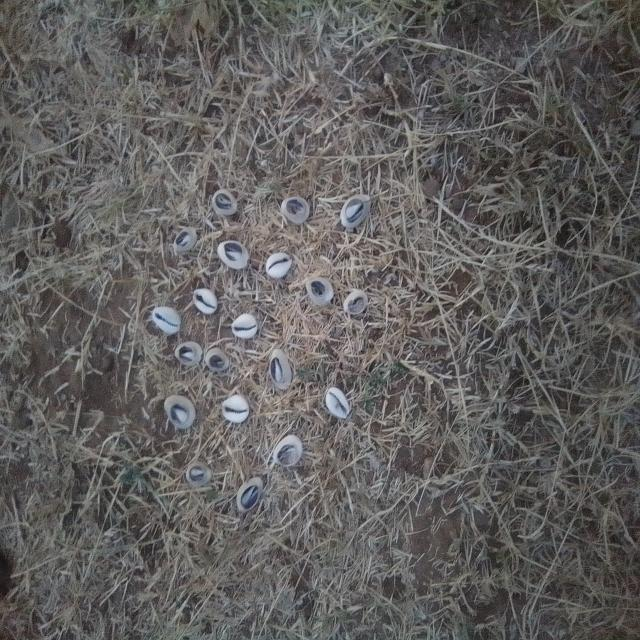facedown: (163, 393, 197, 430), (340, 192, 373, 229), (272, 434, 304, 471), (217, 238, 251, 270), (270, 345, 294, 390), (211, 183, 239, 219), (236, 475, 264, 511), (305, 274, 334, 308), (279, 194, 310, 225), (174, 339, 201, 368), (186, 459, 212, 487), (344, 288, 367, 318), (172, 225, 195, 252), (205, 347, 228, 373)
faceup: (265, 246, 293, 284), (152, 302, 182, 337), (325, 385, 351, 420), (220, 394, 250, 424), (232, 311, 258, 341), (192, 286, 218, 315), (264, 242, 265, 242)
